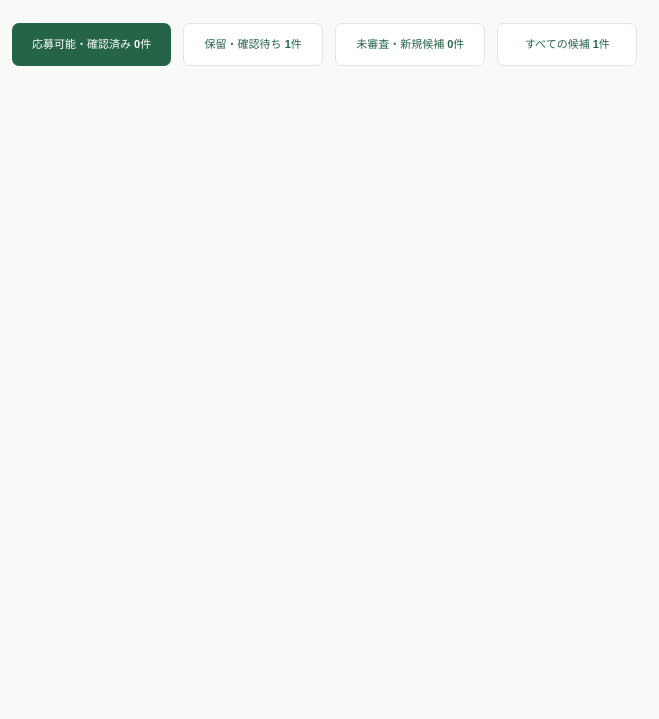
Test: keeps source-screened possible jobs with unknown pay visible only as pending
Click the button "保留・確認待ち 1件" at (253, 44), box [183,23,323,66]
(page scrolled)
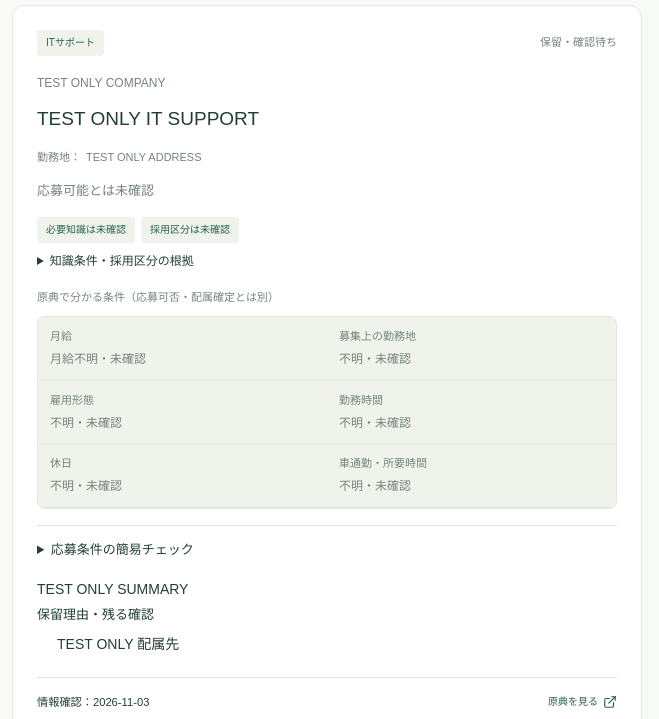
Expected: the text "応募可能とは未確認" is shown, [37,183,154,198]
Expected: the text "不明・未確認" is shown 5 times, [339,352,411,366]; [50,416,122,430]; [339,416,411,430]; [50,479,122,493]; [339,479,411,493]
Expected: the text "月給不明・未確認" is shown, [50,352,146,366]
